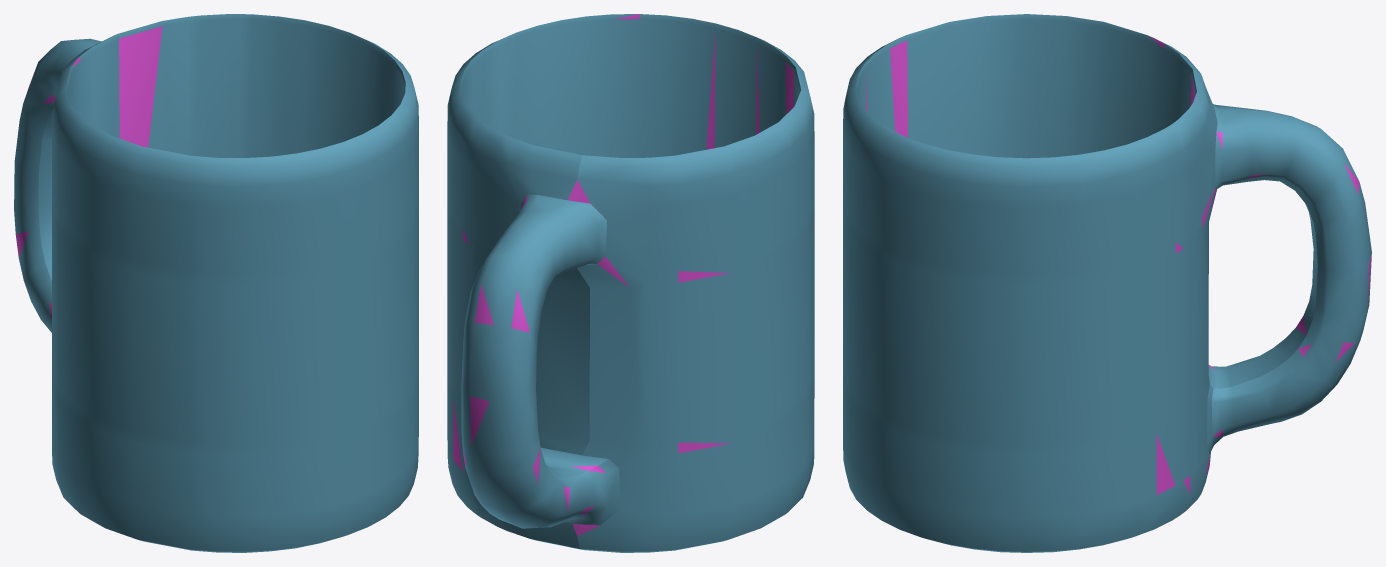
The model's file is chashka.fbx.
3 renders of one model, left to right at view 1: azimuth 30°, elevation 25°; view 2: azimuth 150°, elevation 25°; view 3: azimuth 270°, elevation 25°, orthographic.
Parts seen in each view (by area): view 1: 000-0-0; view 2: 000-0-0; view 3: 000-0-0.
Part boxes in pixels (x1=…): 000-0-0: x1=14, y1=14, x2=418, y2=552; 000-0-0: x1=447, y1=14, x2=814, y2=552; 000-0-0: x1=843, y1=14, x2=1371, y2=552.
Bounding box in the file's own units: 33.05 × 39.38 × 47.55.
